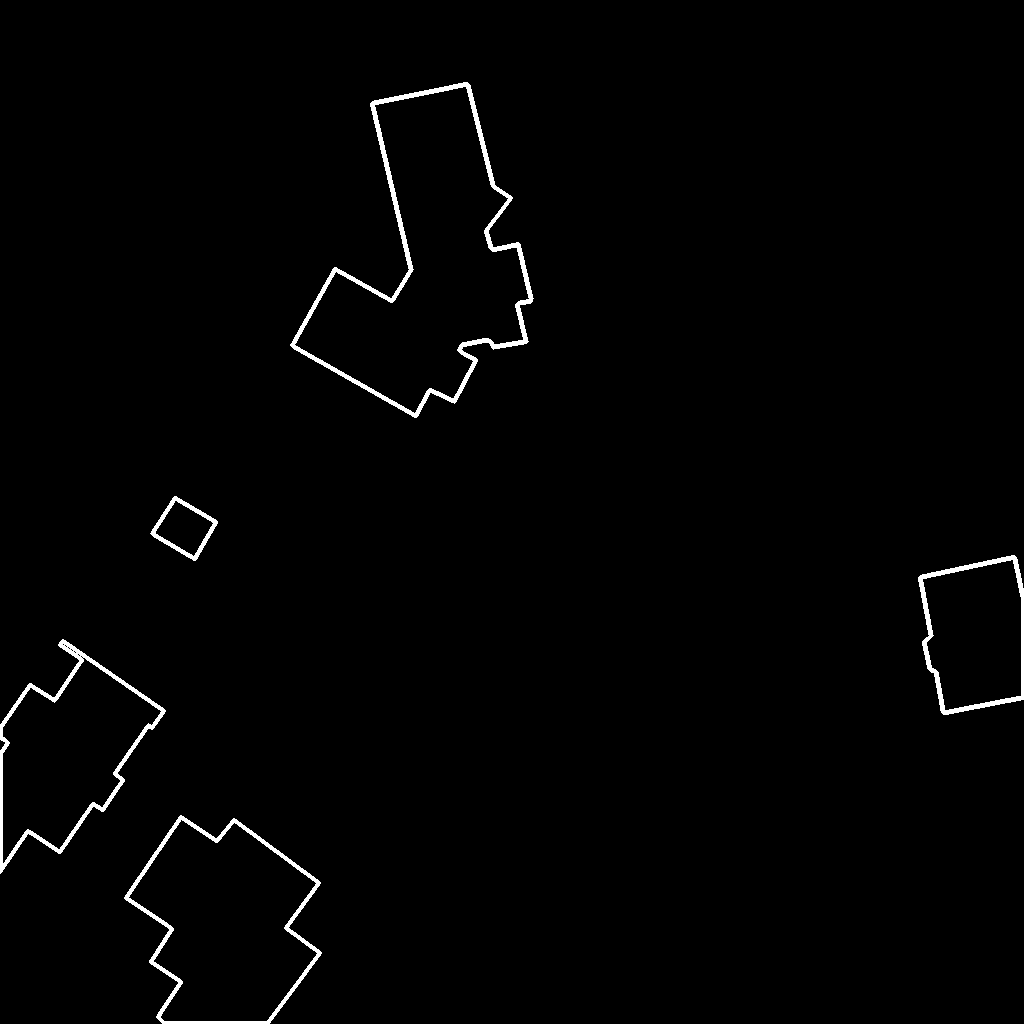building: (292, 84, 532, 417), (126, 817, 321, 1024), (0, 641, 165, 873), (920, 557, 1024, 714), (152, 498, 217, 560)
